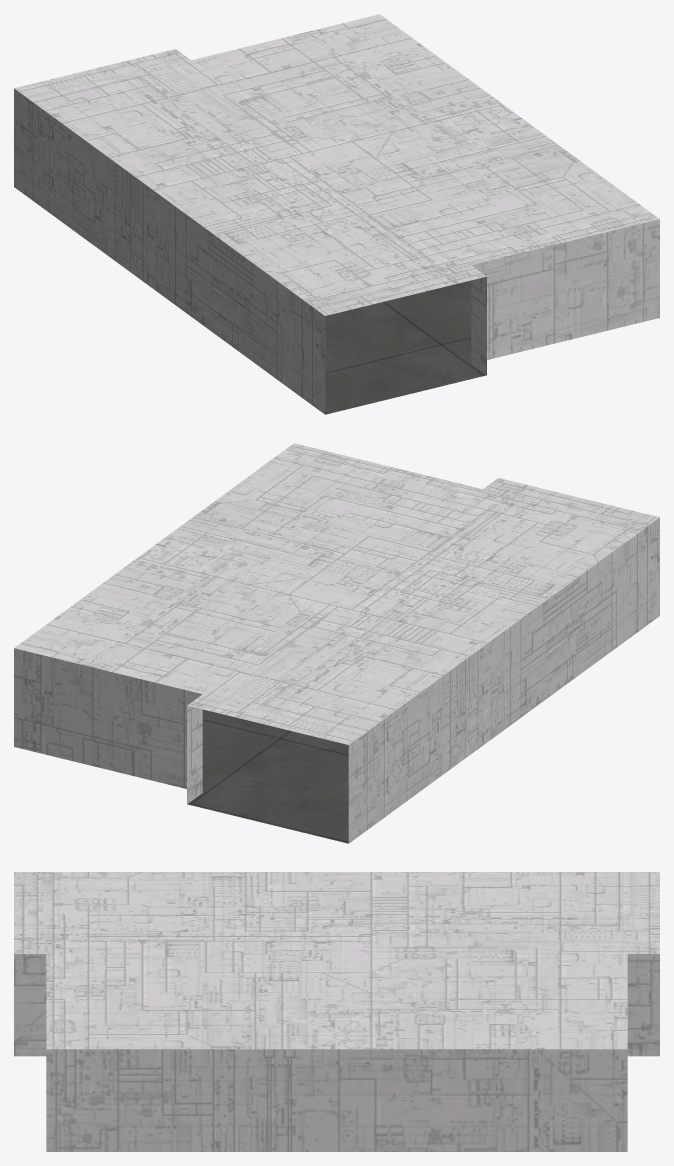
File: thm_spc_star_destroyer_s01_r51_radar_mesh_r51.fbx
3 views of the same model, one above another, from view 1: azimuth 30°, elevation 25°; view 2: azimuth 150°, elevation 25°; view 3: azimuth 270°, elevation 25° (orthographic). The views are drawn at different scales.
Parts seen in each view (by area): view 1: mesh_node; view 2: mesh_node; view 3: mesh_node.
Part boxes in pixels (box(x1,y1,x2,y2)): mesh_node: box(14, 14, 659, 414); mesh_node: box(14, 443, 659, 843); mesh_node: box(14, 872, 659, 1151).
Size of the model in its own units: 13 by 3.5 by 20.
Materials: 2 (2 with a texture image).
